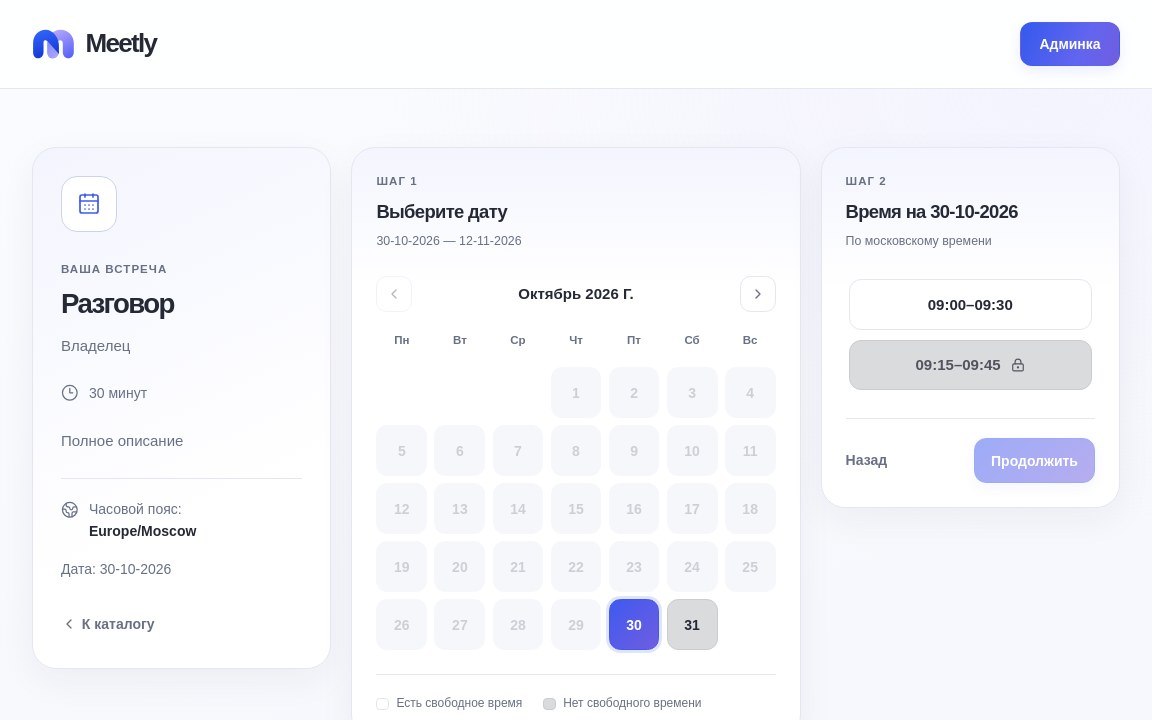
fresh check clears slot removed by notice expiry without choosing replacement
Click the button named "09:00–09:30 — Свободно": (970,304) [849,279,1092,330]
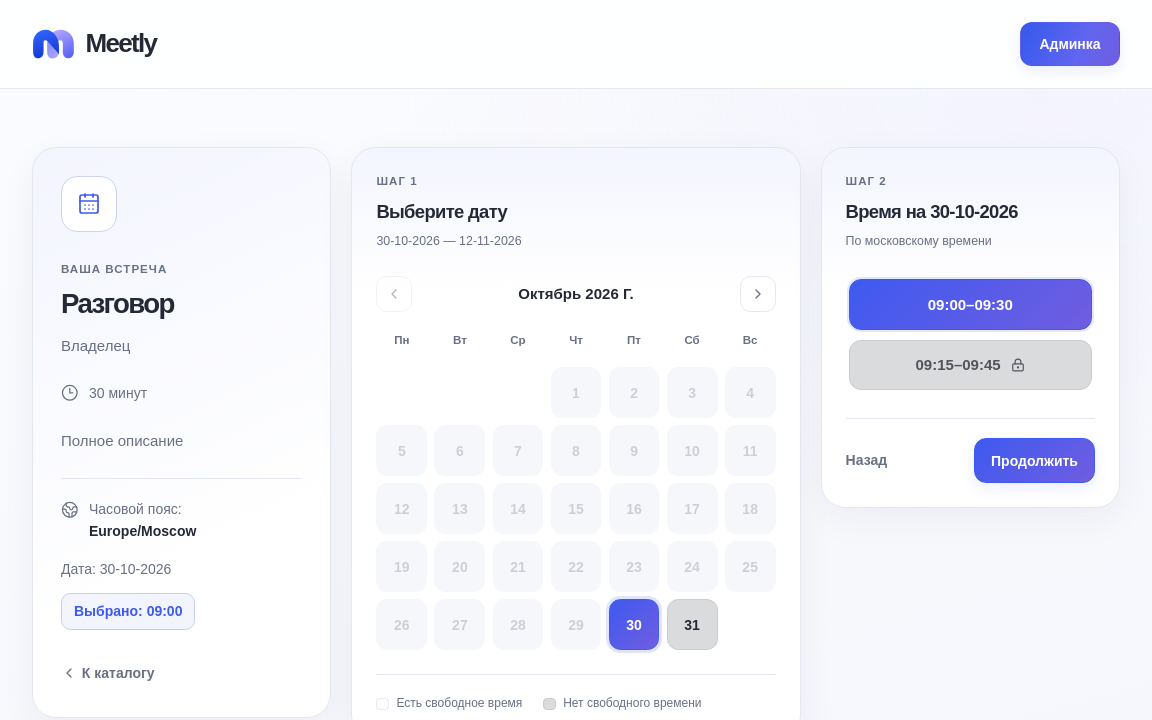
Click the button "Продолжить": (1034,460) [974,438,1095,483]
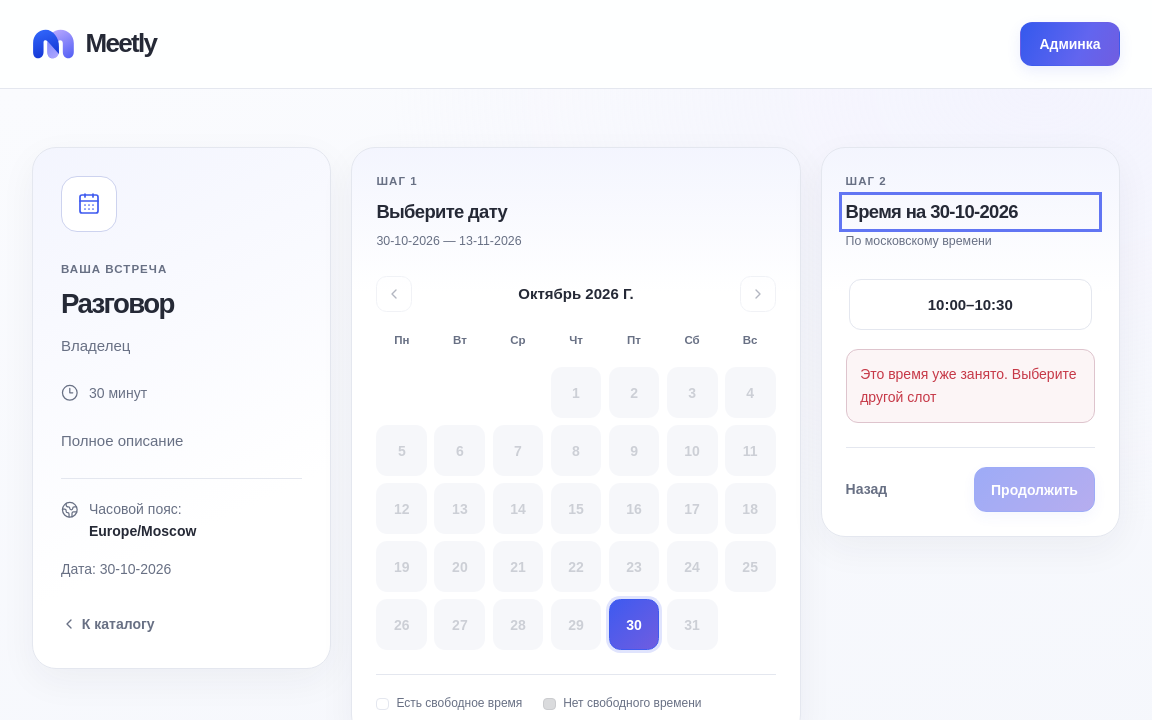
Expected: the text "Это время уже занято. Выберите другой слот" is shown, [846,349,1095,423]
Expected: the button "Продолжить" is disabled, [974,467,1095,512]
Expected: the text "Выбрано:" is gone
